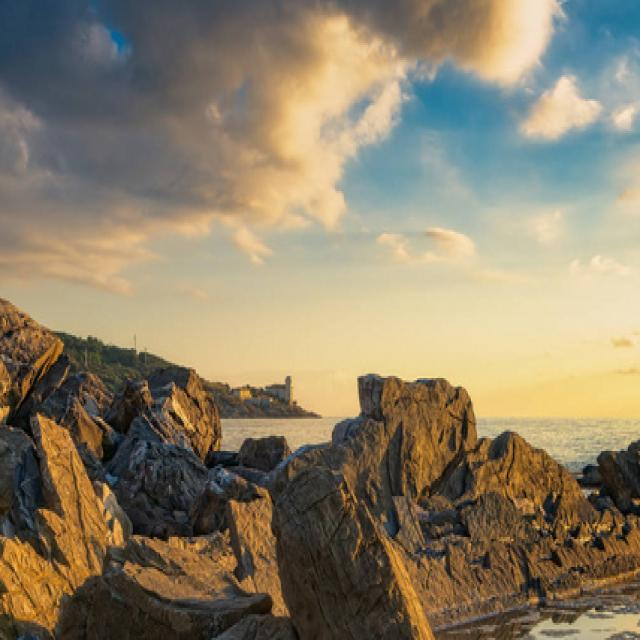reef: (304, 384, 634, 598)
